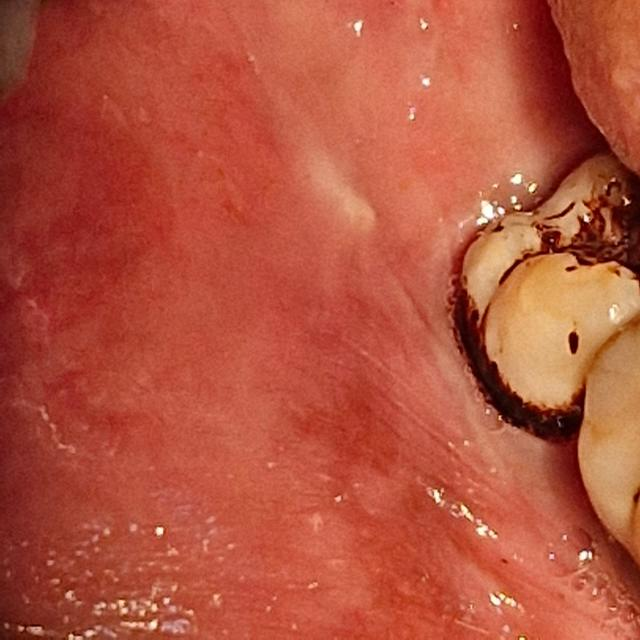leukoplakia-like-detection: (230, 1, 600, 330), (408, 324, 640, 640)
processing_area: (0, 1, 640, 640)
